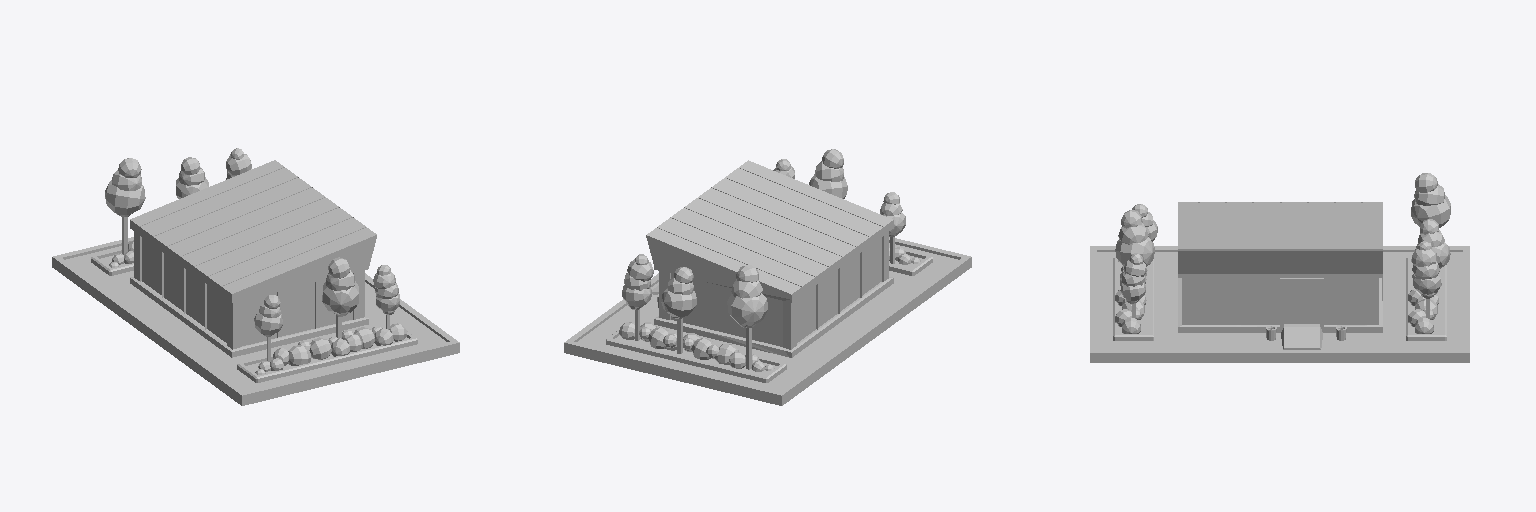
Rendered from building4.obj.
3 views of the same model, side by side, from view 1: azimuth 30°, elevation 25°; view 2: azimuth 150°, elevation 25°; view 3: azimuth 270°, elevation 25° (orthographic).
Visible parts, largest first — view 1: Shop, Floor_4_4, Tree_3_2, Tree_2, Bed_3, Tree_1, Bushes_2_2, Tree_3, Bushes_2, Tree_2_2, Bushes_15, Bed_4 (+1 smaller); view 2: Shop, Floor_4_4, Tree_3_2, Bed_4, Tree_2_2, Tree_1_2, Tree_2, Bushes_2_3, Tree_3, Bushes_15_2, Bushes_4, Bed_3; view 3: Shop, Floor_4_4, Tree_3_2, Tree_2, Bed_3, Tree_1_2, Bed_4, Tree_1, Tree_2_2, Bushes_2_3, Bushes_2.
Part boxes in pixels (left/top/right/bottom): Shop: left=130, top=160, right=376, bottom=357; Floor_4_4: left=52, top=237, right=459, bottom=405; Tree_3_2: left=105, top=158, right=145, bottom=254; Tree_2: left=322, top=257, right=358, bottom=338; Bed_3: left=237, top=328, right=417, bottom=382; Tree_1: left=373, top=265, right=399, bottom=329; Bushes_2_2: left=298, top=334, right=362, bottom=359; Tree_3: left=254, top=295, right=282, bottom=361; Bushes_2: left=342, top=323, right=406, bottom=348; Tree_2_2: left=176, top=157, right=208, bottom=198; Bushes_15: left=255, top=345, right=310, bottom=374; Bed_4: left=91, top=249, right=133, bottom=275; Shop: left=646, top=160, right=893, bottom=357; Floor_4_4: left=564, top=237, right=971, bottom=405; Tree_3_2: left=727, top=265, right=767, bottom=369; Bed_4: left=606, top=329, right=786, bottom=382; Tree_2_2: left=661, top=267, right=696, bottom=353; Tree_1_2: left=622, top=254, right=653, bottom=340; Tree_2: left=809, top=149, right=847, bottom=198; Bushes_2_3: left=619, top=322, right=676, bottom=348; Tree_3: left=880, top=192, right=905, bottom=263; Bushes_15_2: left=715, top=344, right=774, bottom=371; Bushes_4: left=665, top=333, right=718, bottom=359; Bed_3: left=889, top=250, right=932, bottom=275; Shop: left=1178, top=202, right=1382, bottom=349; Floor_4_4: left=1090, top=246, right=1469, bottom=362; Tree_3_2: left=1411, top=173, right=1450, bottom=227; Tree_2: left=1115, top=210, right=1154, bottom=266; Bed_3: left=1113, top=257, right=1153, bottom=340; Tree_1_2: left=1412, top=241, right=1441, bottom=318; Bed_4: left=1406, top=257, right=1446, bottom=340; Tree_1: left=1120, top=253, right=1146, bottom=318; Tree_2_2: left=1415, top=219, right=1450, bottom=268; Bushes_2_3: left=1408, top=295, right=1438, bottom=333; Bushes_2: left=1115, top=296, right=1146, bottom=333.
Bounding box in the file's own units: 1.38 × 0.6881 × 2.09.